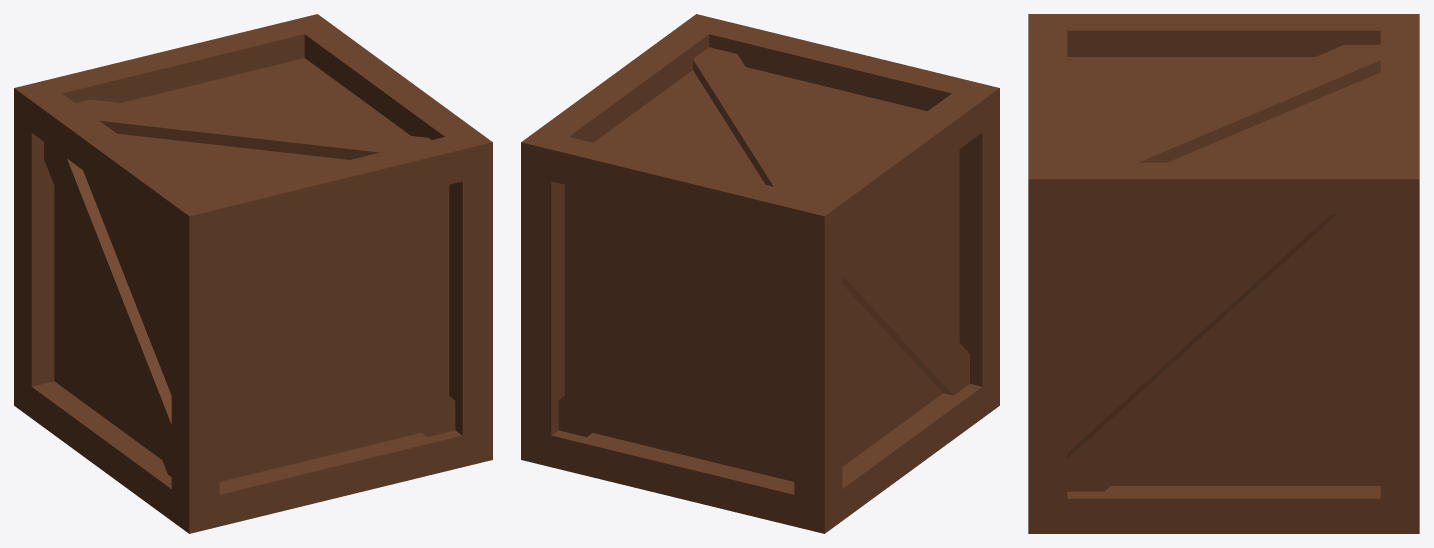
The picture shows the model from 3 angles, left to right: view 1: azimuth 30°, elevation 25°; view 2: azimuth 150°, elevation 25°; view 3: azimuth 270°, elevation 25°; orthographic projection. The views are drawn at different scales.
Visible parts, largest first — view 1: Box; view 2: Box; view 3: Box.
Part boxes in pixels (x1,y1,x2,y2): Box: (14, 14, 492, 533); Box: (521, 14, 999, 533); Box: (1028, 14, 1419, 533).
Bounding box in the file's own units: 200 × 200 × 200.
